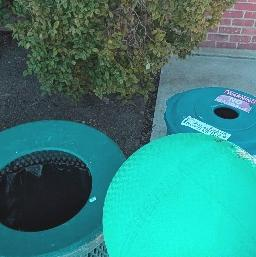algae: (99, 132, 256, 257)
